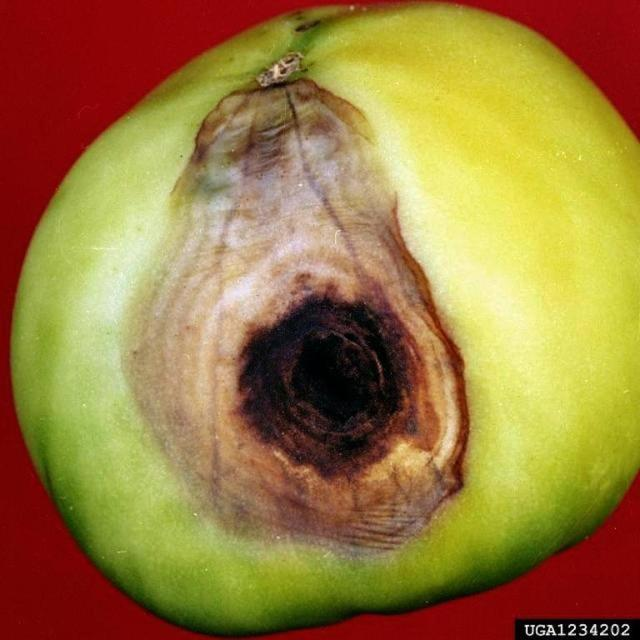Sunscald Fruit: (83, 31, 322, 384)
